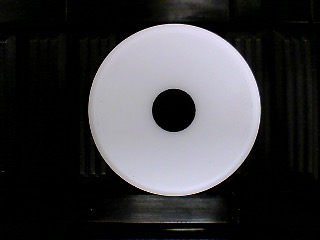BOHO: (88, 23, 262, 197)
